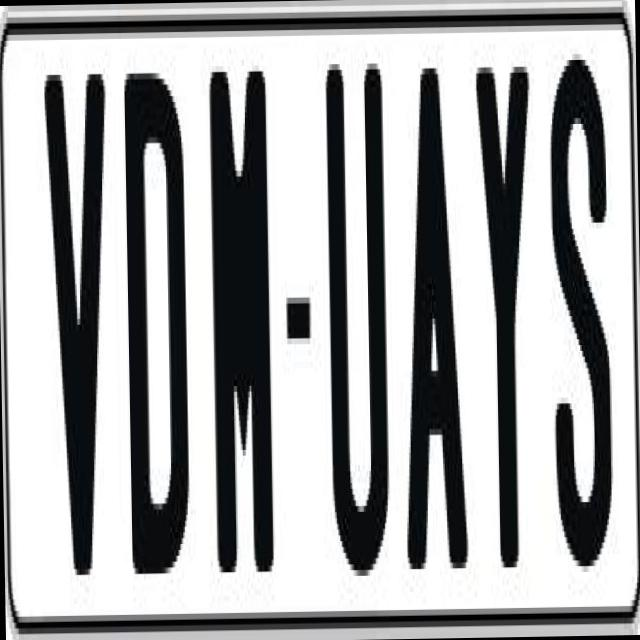A: (396, 61, 468, 592)
D: (118, 72, 186, 586)
M: (204, 64, 274, 566)
S: (549, 41, 621, 578)
U: (322, 46, 389, 558)
V: (38, 57, 114, 576)
Y: (475, 59, 539, 562)
